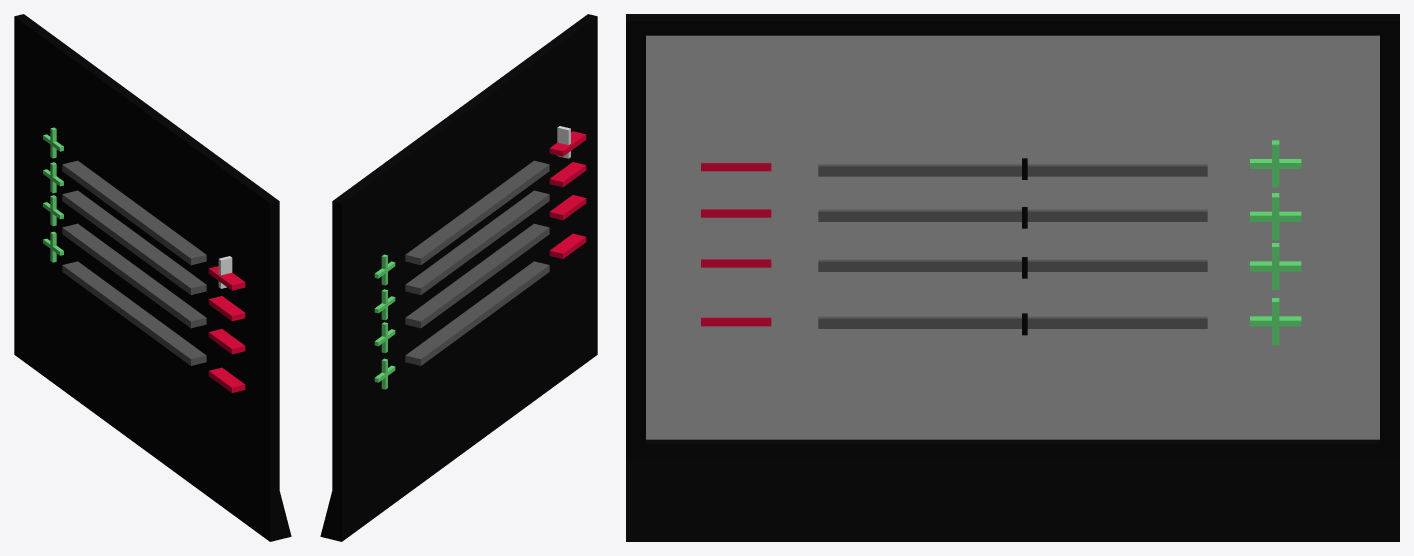
Rendered from Monitor.fbx.
3 renders of one model, left to right at view 1: azimuth 30°, elevation 25°; view 2: azimuth 150°, elevation 25°; view 3: azimuth 270°, elevation 25°, orthographic. The views are drawn at different scales.
Visible parts, largest first — view 1: Cube, Cube.006, Cube.002, Cube.014, Cube.008; view 2: Cube, Cube.006, Cube.002, Cube.014, Cube.008; view 3: Cube.001, Cube, Cube.006, Cube.002, Cube.008, Cube.014.
Boxes of the visible parts, left/top/right/bottom form: Cube: left=14, top=14, right=291, bottom=541; Cube.006: left=62, top=190, right=206, bottom=365; Cube.002: left=62, top=160, right=206, bottom=265; Cube.014: left=208, top=266, right=245, bottom=392; Cube.008: left=43, top=127, right=63, bottom=262; Cube: left=320, top=14, right=597, bottom=541; Cube.006: left=405, top=190, right=549, bottom=365; Cube.002: left=405, top=160, right=549, bottom=265; Cube.014: left=549, top=131, right=586, bottom=258; Cube.008: left=374, top=254, right=395, bottom=389; Cube.001: left=646, top=35, right=1379, bottom=439; Cube: left=626, top=14, right=1399, bottom=541; Cube.006: left=818, top=209, right=1207, bottom=328; Cube.002: left=818, top=164, right=1207, bottom=176; Cube.008: left=1250, top=140, right=1301, bottom=345; Cube.014: left=701, top=163, right=771, bottom=326.
Bounding box in the file's own units: 158 × 1375 × 1884.
